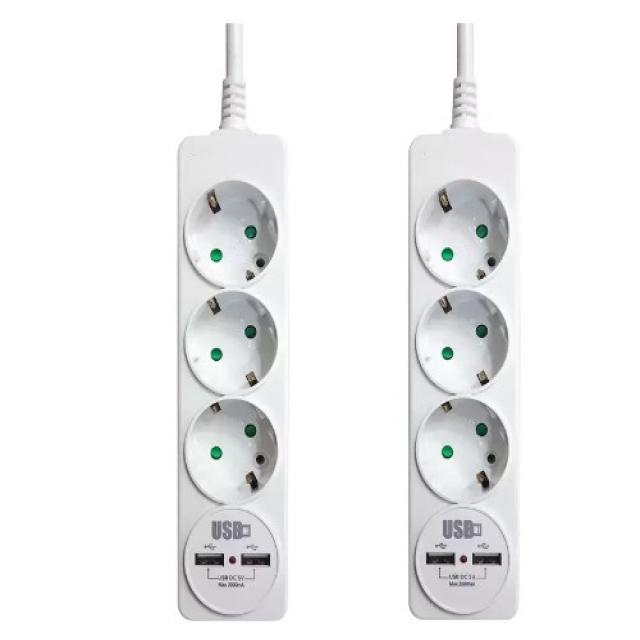typeb: (136, 81, 312, 638), (389, 89, 535, 612)
